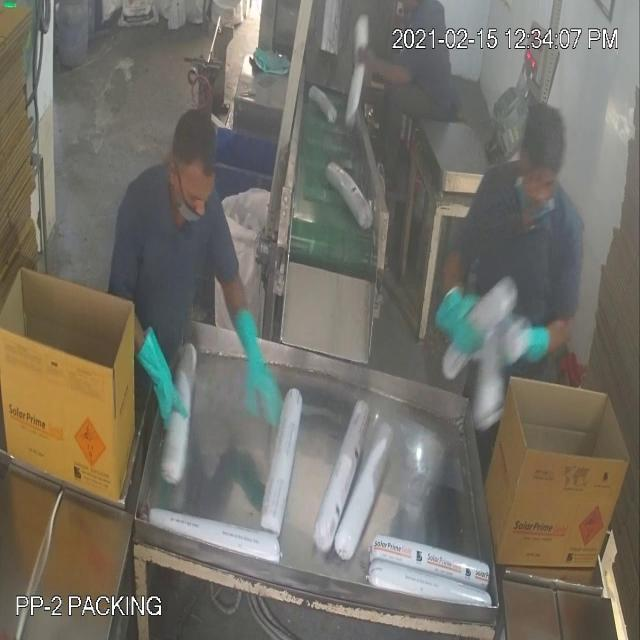gloves: (232, 287, 290, 436), (130, 304, 190, 439)
no-gloves: (355, 42, 413, 98)
